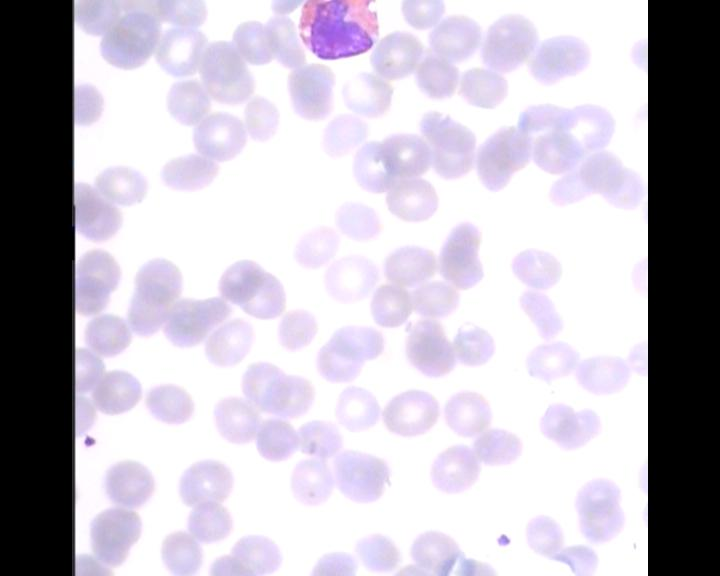eosi: (295, 0, 386, 64)
